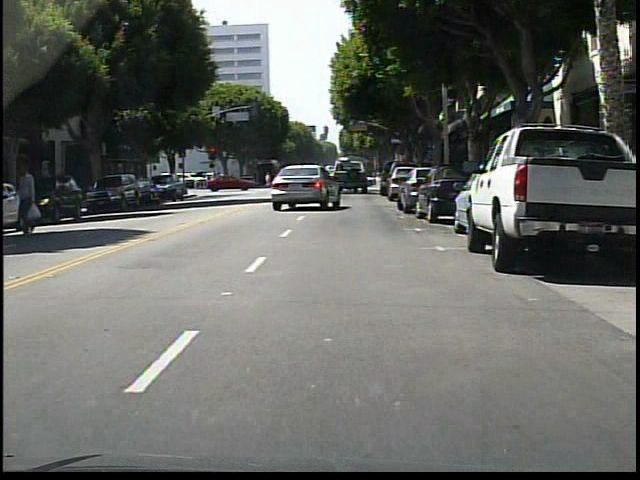person: (21, 162, 45, 238), (283, 169, 294, 192), (305, 167, 312, 192), (265, 171, 272, 188)
